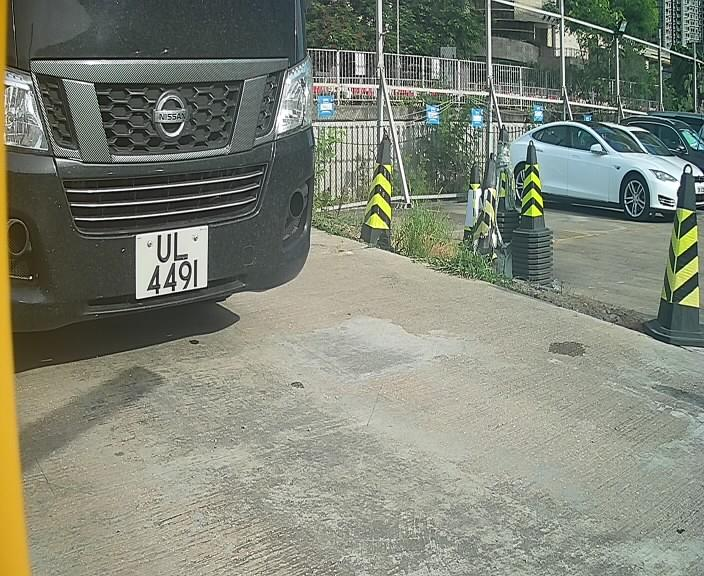License Plate: (123, 224, 217, 301)
